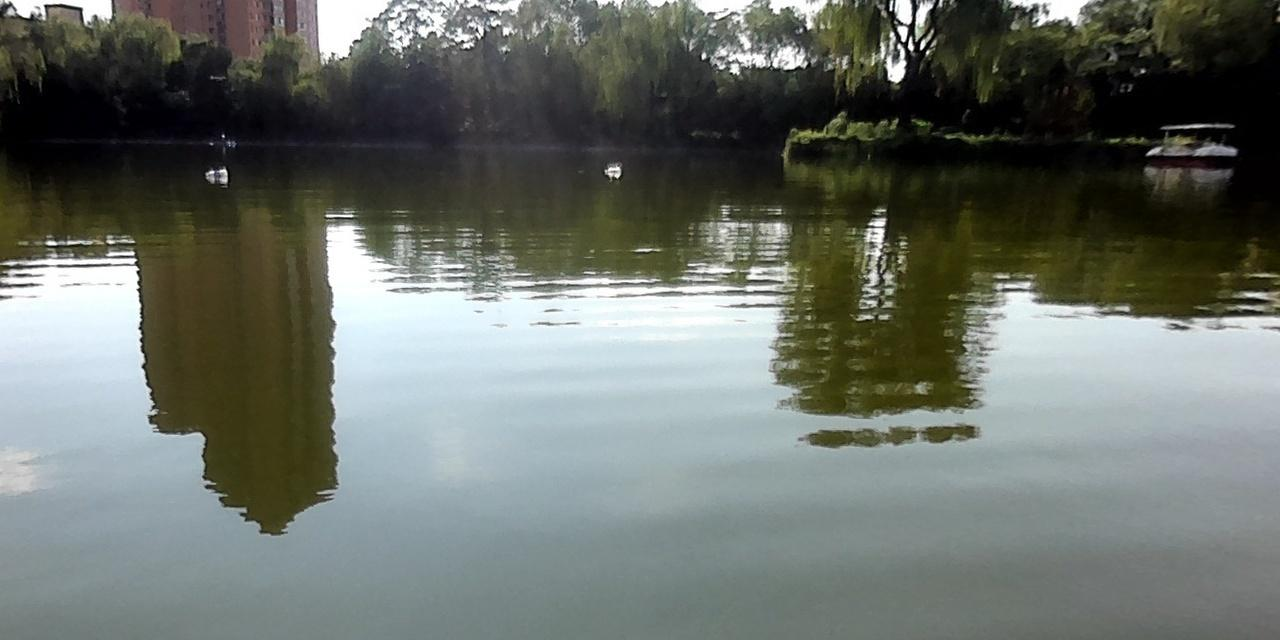bottle: (202, 167, 229, 180), (605, 164, 622, 177)
